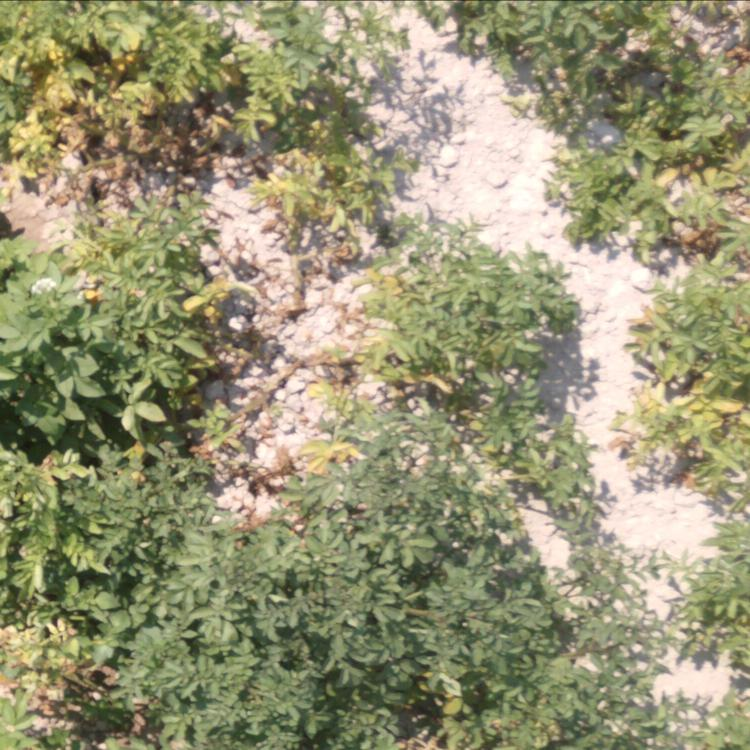healthy: (270, 505, 625, 750), (115, 505, 271, 747), (1, 261, 112, 430), (448, 1, 679, 75), (695, 544, 750, 750)
stressed: (334, 239, 591, 487), (1, 1, 232, 175), (240, 1, 403, 228), (1, 440, 110, 740), (562, 81, 745, 259), (116, 202, 242, 428), (639, 269, 750, 489), (116, 437, 241, 507), (51, 203, 107, 248)
